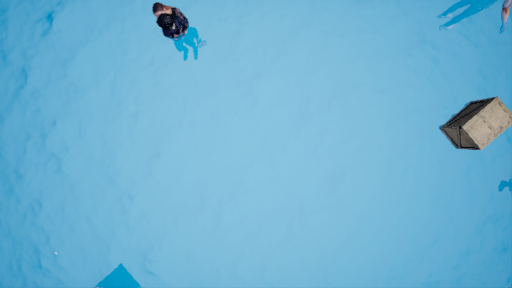person: (150, 4, 206, 70)
